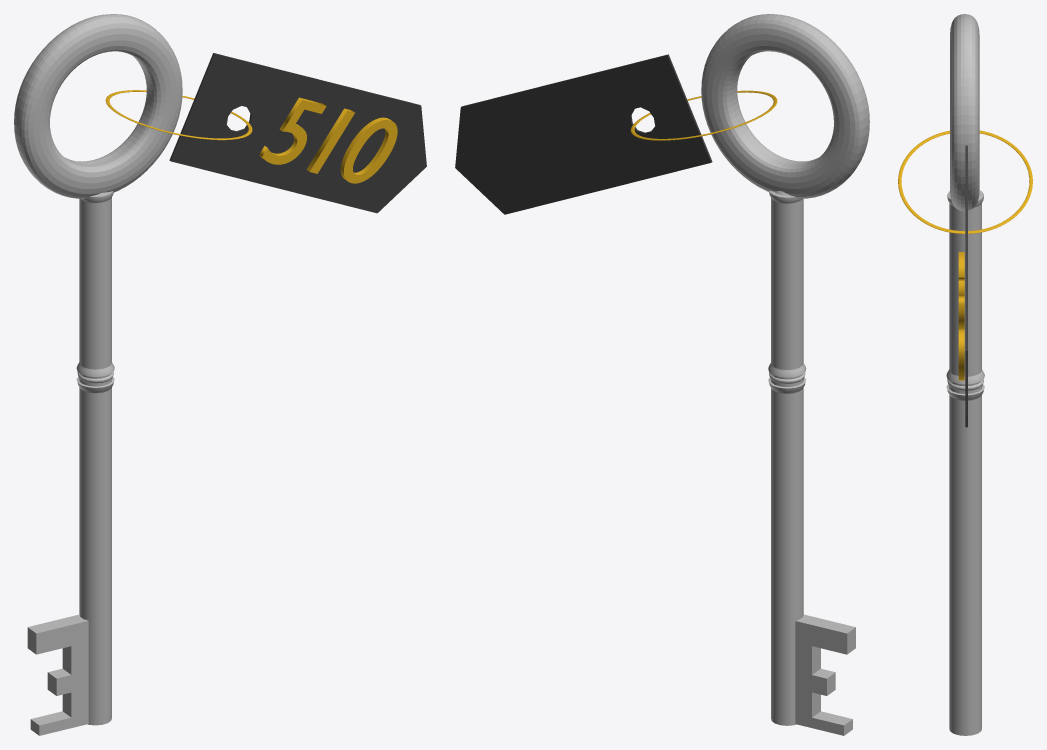
File: key510.fbx
3 renders of one model, left to right at view 1: azimuth 30°, elevation 25°; view 2: azimuth 150°, elevation 25°; view 3: azimuth 270°, elevation 25°, orthographic.
Visible parts, largest first — view 1: key510; view 2: key510; view 3: key510.
Boxes of the visible parts, x1,y1,x2,y2 form: key510: (14, 14, 426, 735); key510: (455, 14, 869, 735); key510: (898, 14, 1032, 735).
Bounding box in the file's own units: 8.68 × 14.18 × 2.45.
